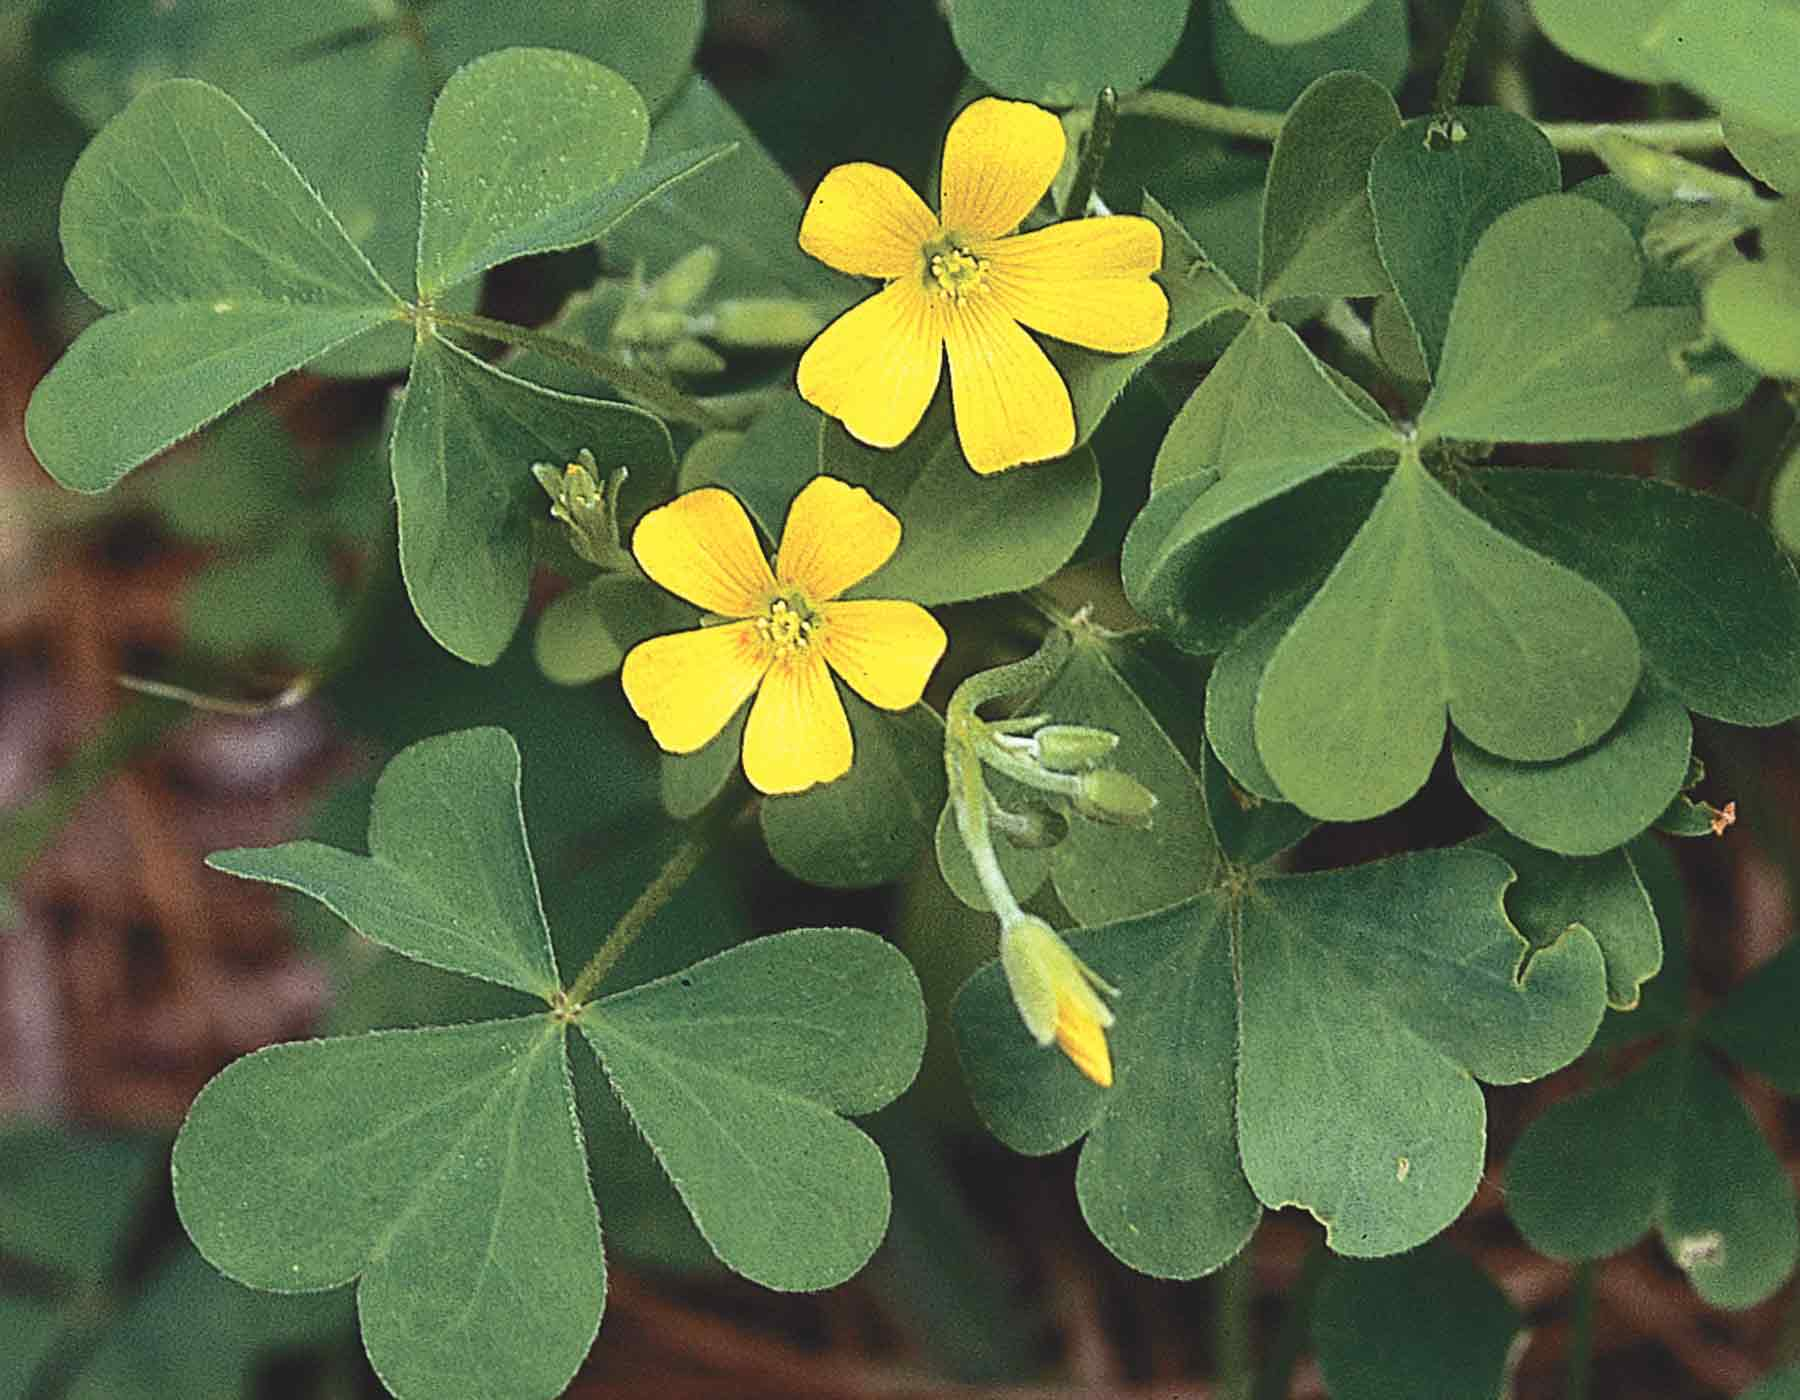clover: (167, 722, 945, 1400), (32, 45, 679, 666), (1143, 189, 1744, 829)
yellow wood sorrrel: (783, 96, 1172, 487), (611, 478, 950, 795)
